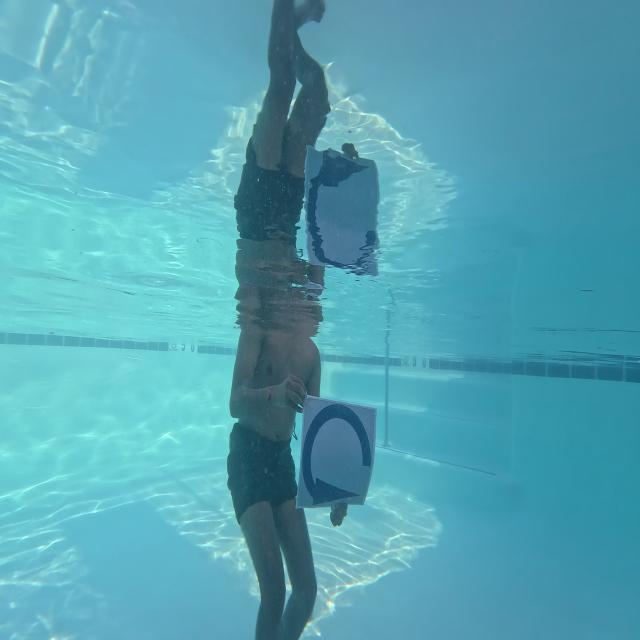blue_side: (297, 382, 375, 516)
